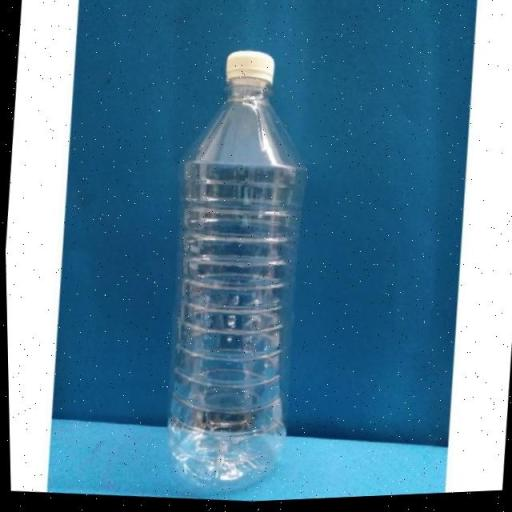plastic: (135, 31, 334, 505)
